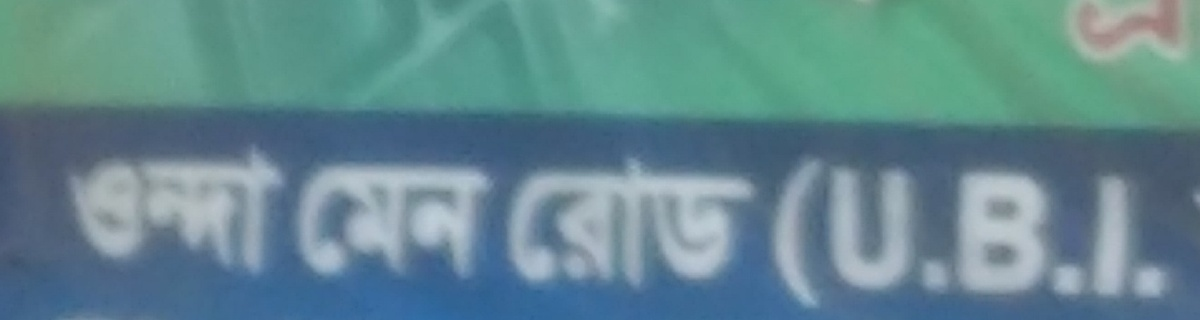text: (785, 152, 800, 316), (801, 152, 816, 316), (817, 152, 832, 316), (833, 152, 848, 316), (849, 152, 864, 316), (865, 152, 880, 316), (881, 152, 896, 316), (897, 152, 912, 316), (913, 152, 928, 316), (929, 152, 944, 316), (945, 152, 960, 316), (961, 152, 976, 316), (977, 152, 992, 316), (993, 152, 1008, 316), (1009, 152, 1024, 316), (1025, 152, 1040, 316), (1041, 152, 1056, 316), (1057, 152, 1072, 316), (1073, 152, 1088, 316), (1089, 152, 1104, 316), (1105, 152, 1120, 316), (1121, 152, 1136, 316), (1137, 152, 1152, 316), (1153, 152, 1168, 316), (81, 139, 96, 288), (97, 139, 112, 288), (113, 139, 128, 288), (129, 139, 144, 288), (145, 139, 160, 288), (161, 139, 176, 288), (177, 139, 192, 288), (193, 139, 208, 288), (209, 139, 224, 288), (225, 139, 240, 288), (241, 139, 256, 288), (257, 139, 272, 288), (273, 139, 288, 288), (513, 151, 528, 297), (529, 151, 544, 297), (545, 151, 560, 297), (561, 151, 576, 297), (577, 151, 592, 297), (593, 151, 608, 297), (609, 151, 624, 297), (625, 151, 640, 297), (641, 151, 656, 297), (657, 151, 672, 297), (673, 151, 688, 297), (689, 151, 704, 297), (705, 151, 720, 297), (721, 151, 736, 297), (737, 151, 752, 297), (305, 155, 320, 286), (321, 155, 336, 286), (337, 155, 352, 286), (353, 155, 368, 286), (369, 155, 384, 286), (385, 155, 400, 286), (401, 155, 416, 286), (417, 155, 432, 286), (433, 155, 448, 286), (449, 155, 464, 286), (465, 155, 480, 286), (481, 155, 496, 286), (776, 152, 784, 316), (1169, 152, 1177, 316), (72, 139, 80, 288), (753, 151, 760, 297), (1073, 2, 1088, 68), (1089, 2, 1104, 68), (1105, 2, 1120, 68), (1121, 2, 1136, 68), (1137, 2, 1152, 68), (1153, 2, 1168, 68), (1169, 2, 1184, 68), (289, 139, 293, 288), (1185, 2, 1194, 68), (302, 155, 304, 286), (1069, 2, 1072, 68), (497, 155, 498, 286)
